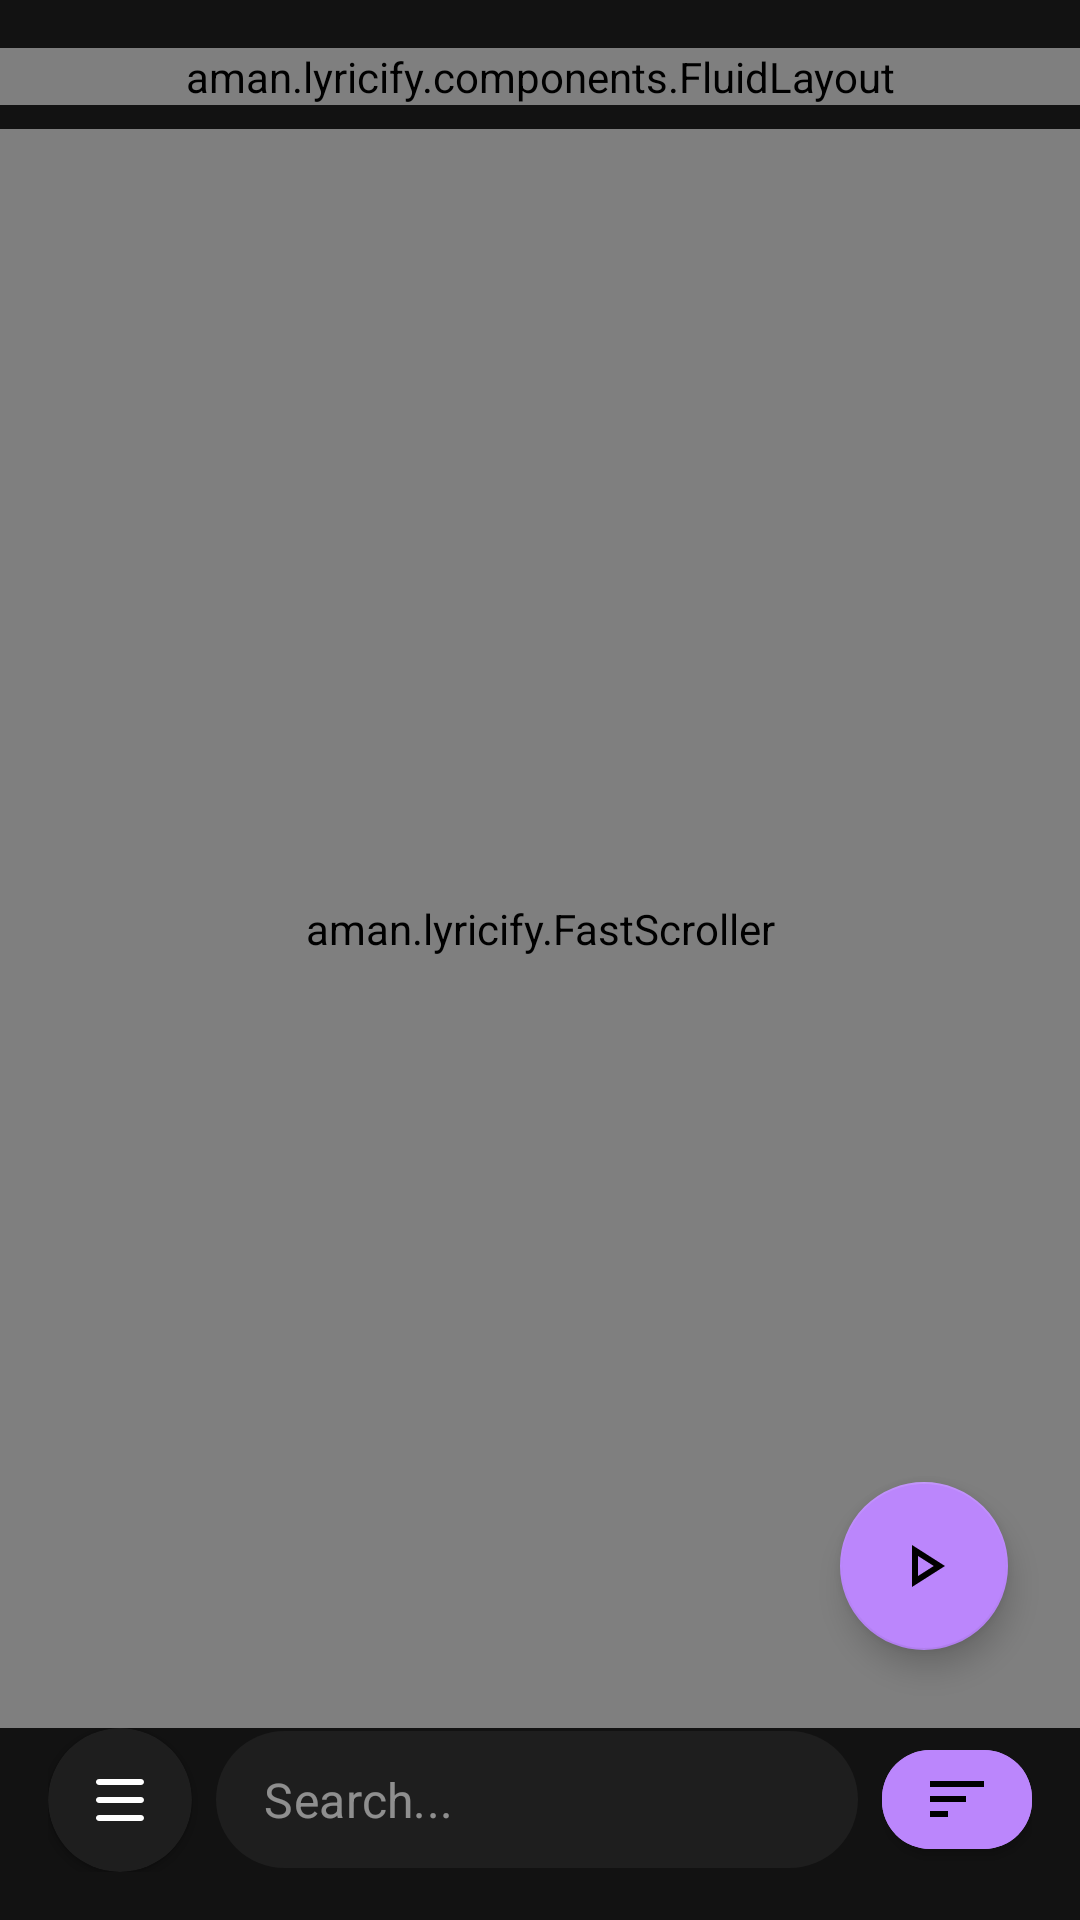

Where to tap for icons on this 1080w x 1920h app screen, as point (x, y):
play arrow: point (924, 1566)
sort: point (957, 1799)
